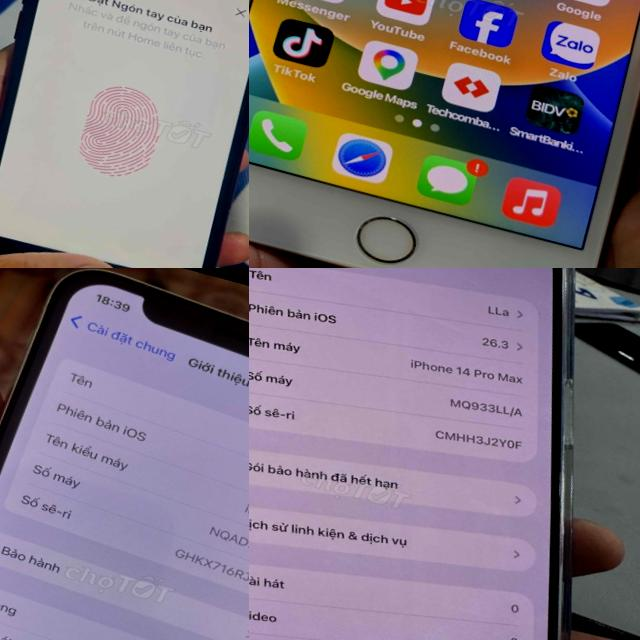gen_14: (249, 268, 640, 640)
gen_7_8: (249, 0, 640, 268), (0, 0, 249, 268)
gen_x_xs: (0, 268, 249, 640)
